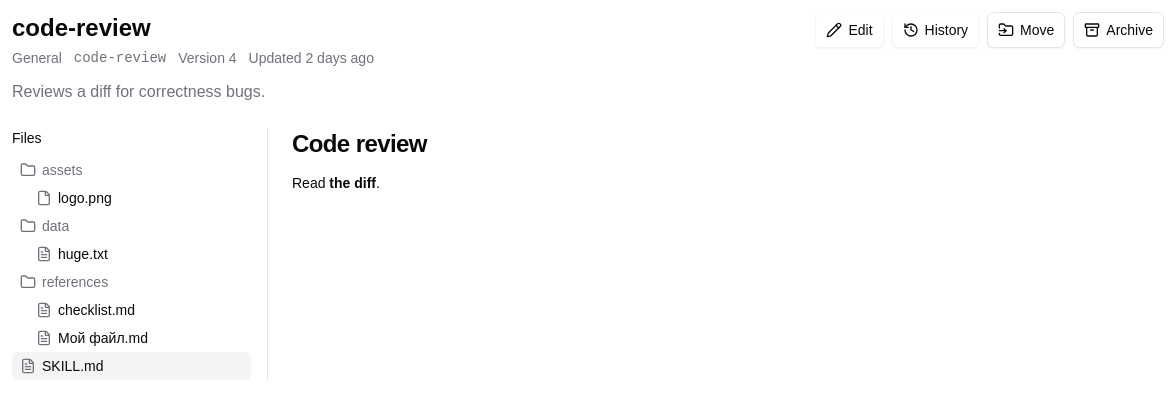
Test: skill page › opens `references/Мой файл.md` by its segment-encoded URL and shows the text
The image size is (1176, 397).
Click the list item "Мой файл.md".
click(132, 338)  # box [12,324,251,352]
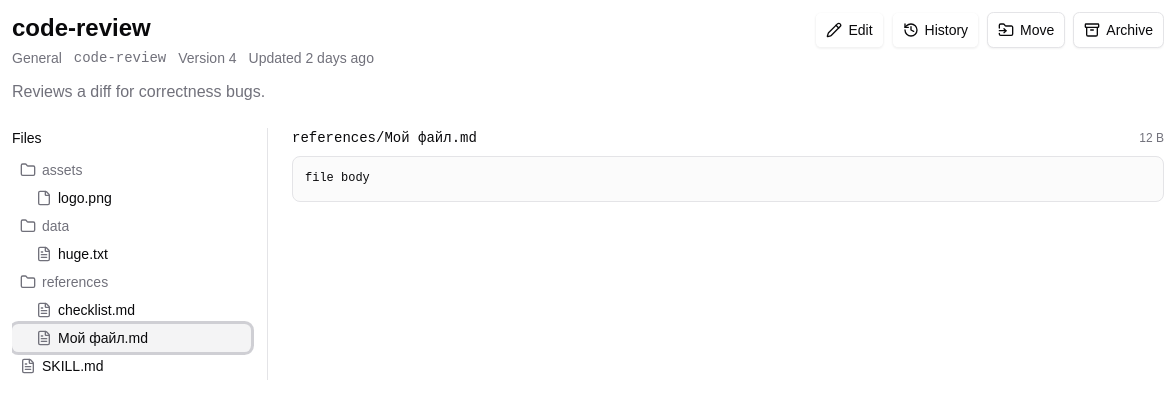
Expected: the text "file body" is shown, [292,156,1164,202]
